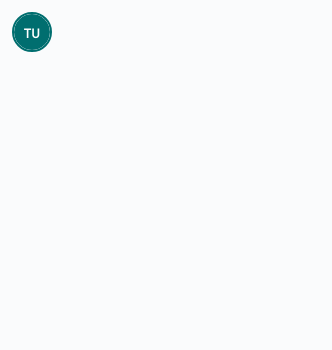
UserMenu › opens dropdown menu on pointer interaction
# Radix dropdown uses pointerdown, not click
Press the mouse on the button at (32, 32), box x1=12 y1=12 x2=52 y2=52
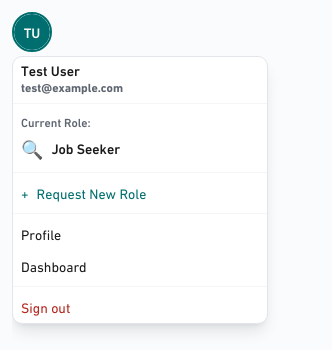
Check: the text "Test User" is shown, box x1=21 y1=59 x2=80 y2=80
Check: the text "test@example.com" is shown, box x1=21 y1=78 x2=123 y2=95
